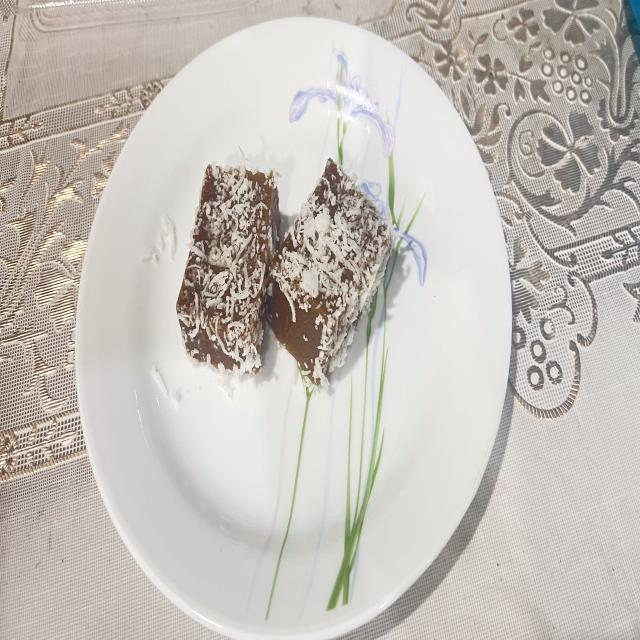kaswi: (269, 158, 394, 387), (176, 164, 281, 373)
